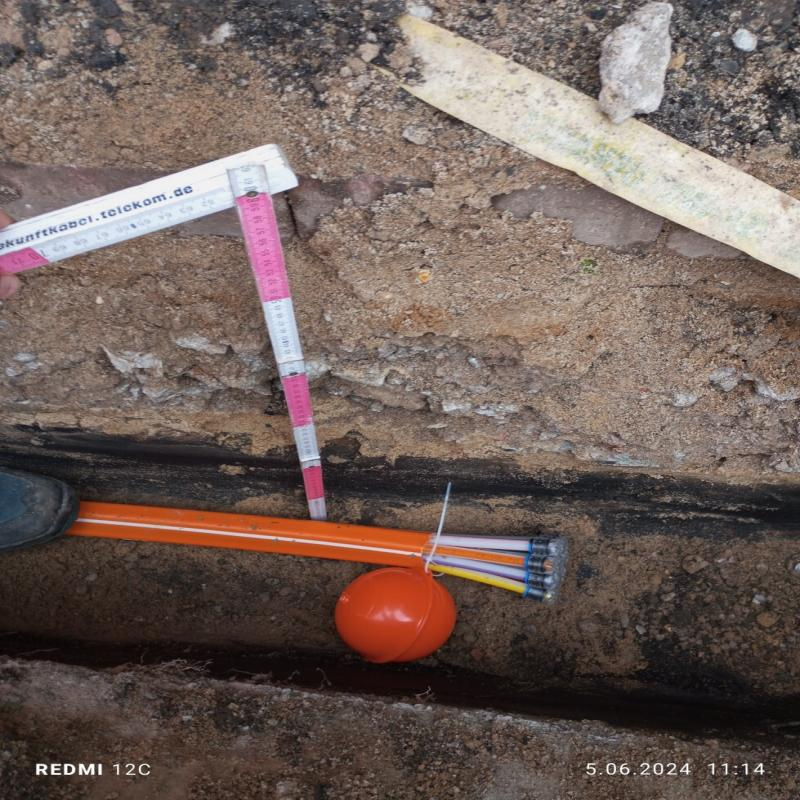Kugelmarker: (333, 570, 455, 661)
Orang-Speednetrohrchen: (75, 505, 568, 601)
